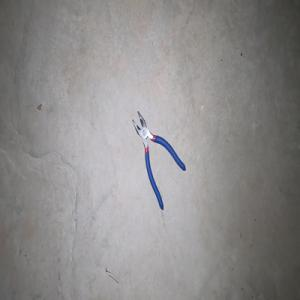Pliers: (132, 110, 186, 210)
